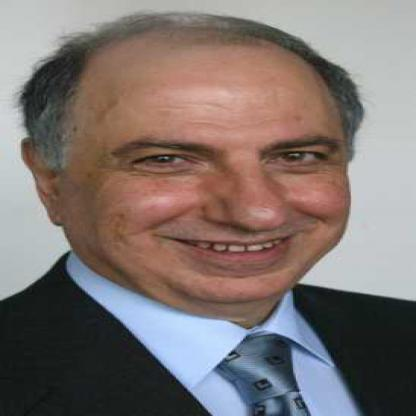face: (54, 25, 367, 307)
